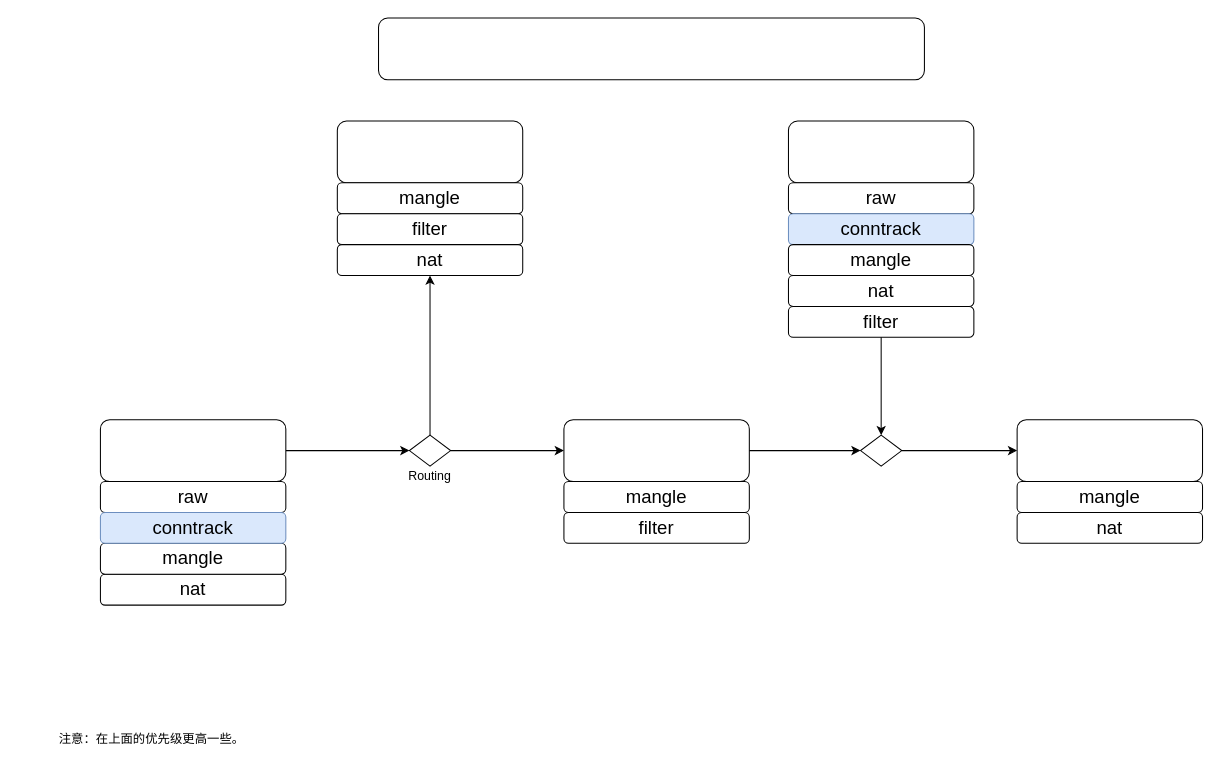
This 1221x767 diagram has some shape labels left out. Here are the shapes that lost their labels. From the top down, the centre of each, then its label:
At point 650,48: "Local Process".
At point 429,151: "Input".
At point 880,151: "Output".
At point 192,450: "PreRouting".
At point 656,450: "Forward".
At point 1109,450: "PostRouting".
